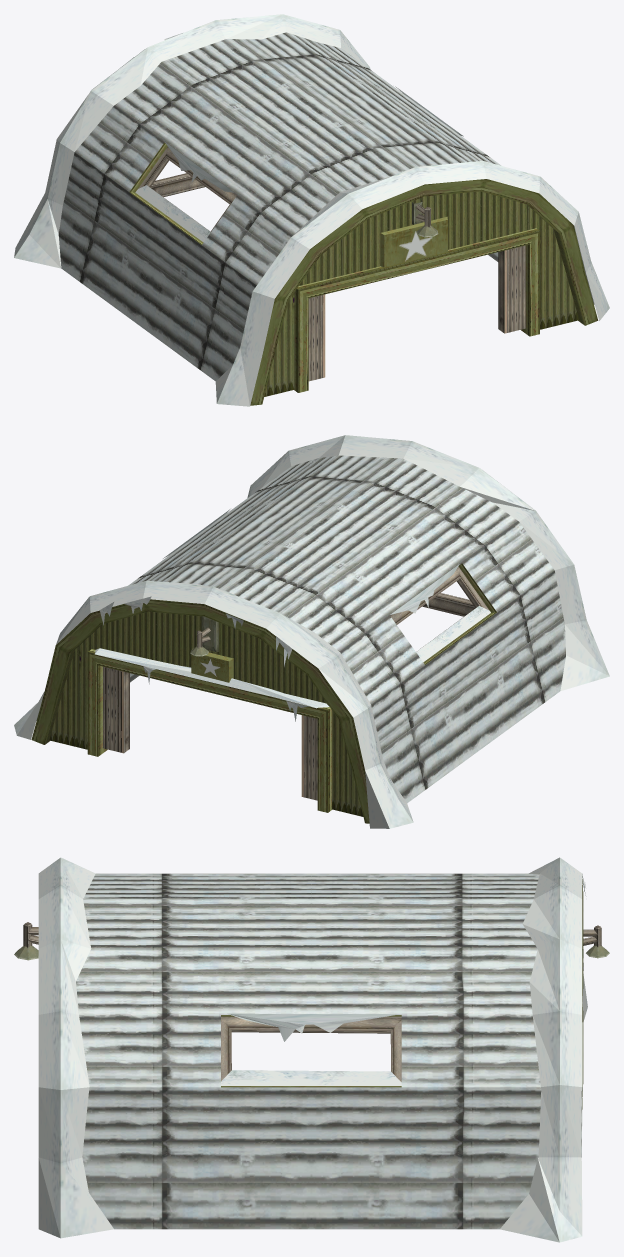
Rendered from C1HANGER2H.obj.
3 renders of one model, top to bottom at view 1: azimuth 30°, elevation 25°; view 2: azimuth 150°, elevation 25°; view 3: azimuth 270°, elevation 25°, orthographic. The views are drawn at different scales.
Parts seen in each view (by area): view 1: Node 0; view 2: Node 0; view 3: Node 0.
Boxes of the visible parts, bbox=[...] form: Node 0: bbox=[14, 14, 609, 406]; Node 0: bbox=[14, 435, 609, 828]; Node 0: bbox=[14, 857, 609, 1242].
Bounding box in the file's own units: 42.31 × 19.77 × 43.54.
Materials: 8 (8 with a texture image).
